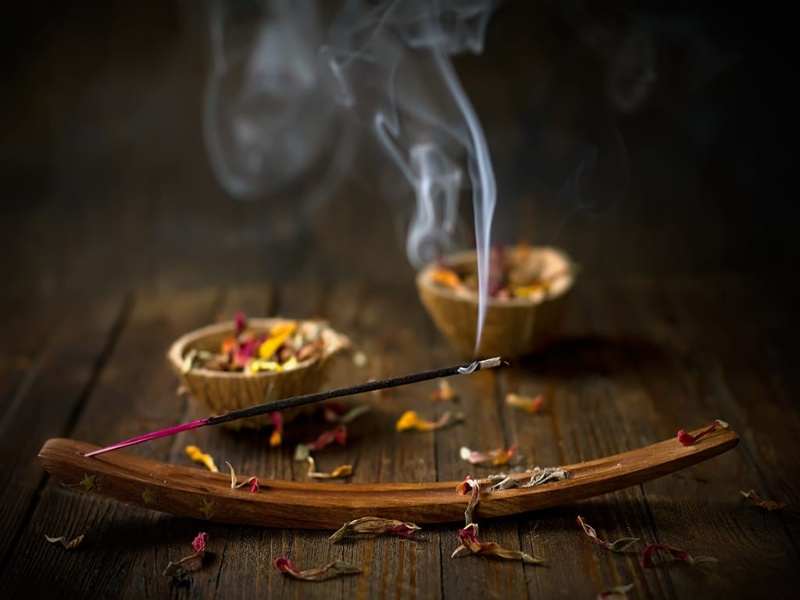smoke: (219, 1, 469, 244)
